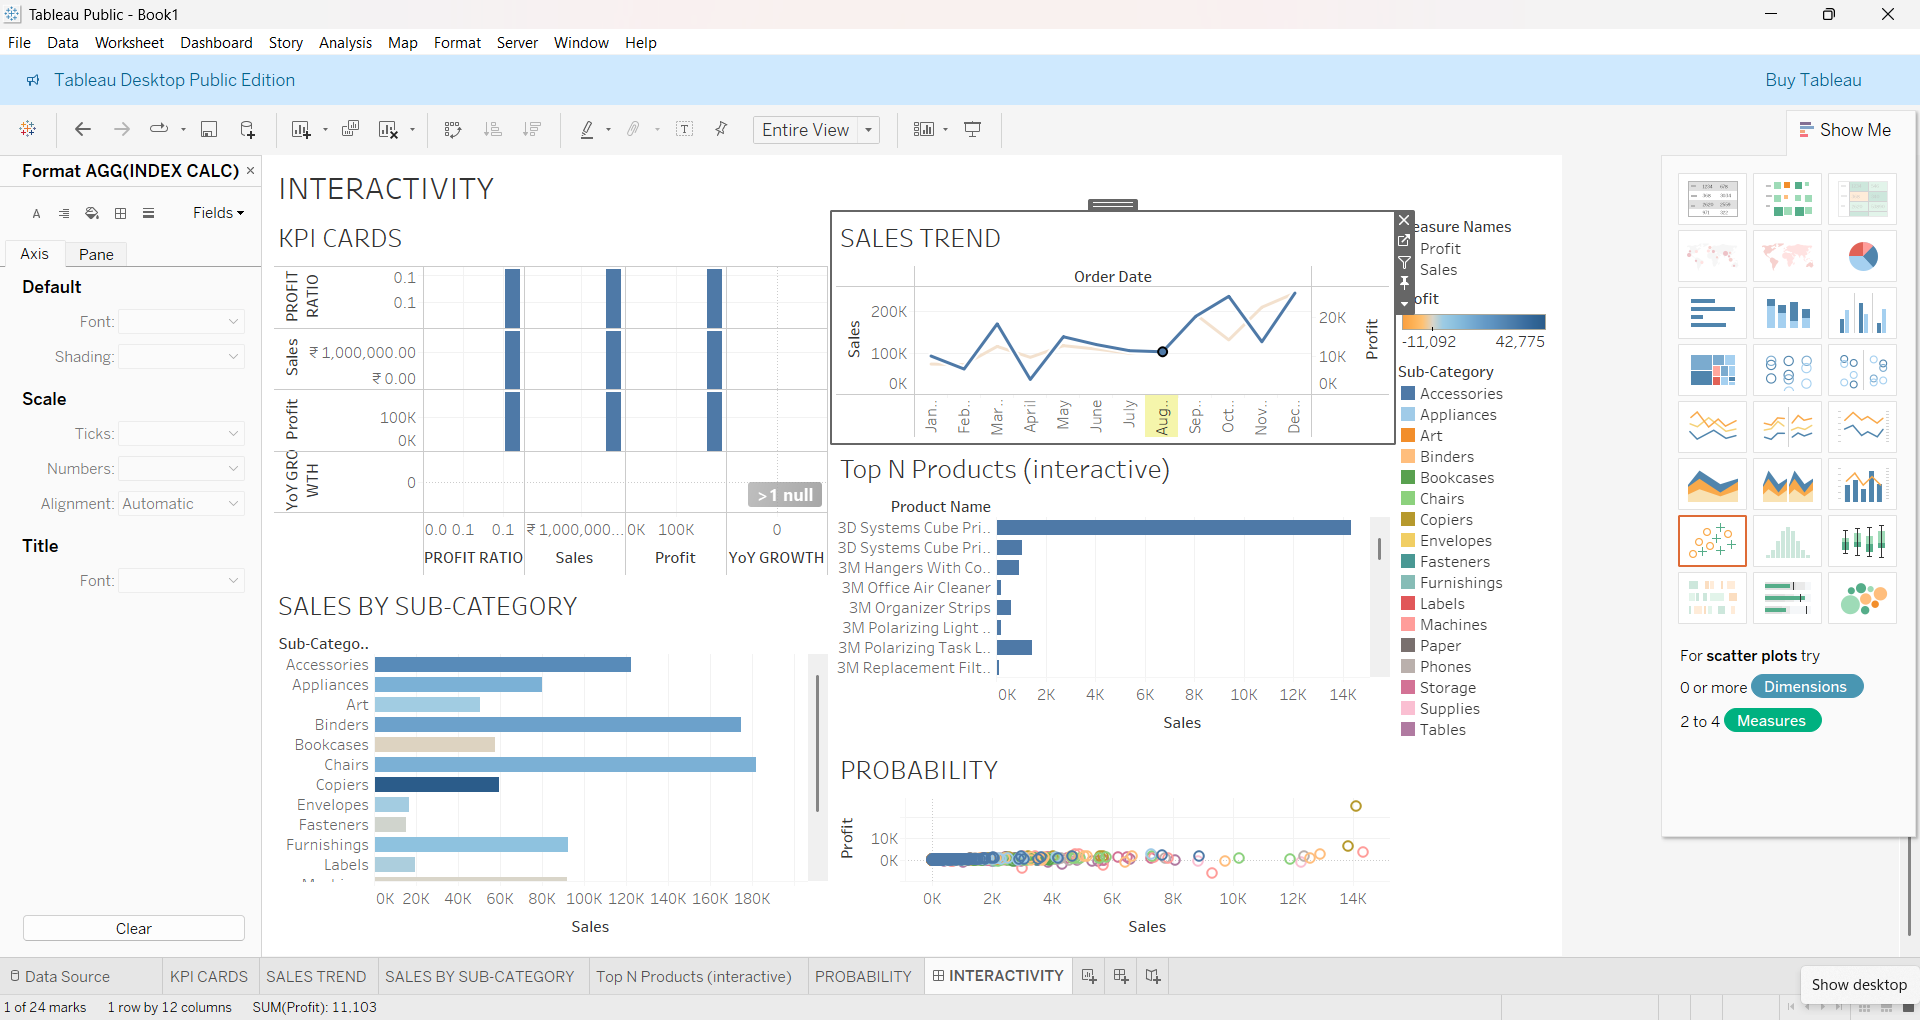

Layout of this report page (visuals, bound fields, positions):
{"tool":"tableau","page":{"name":"INTERACTIVITY","canvas":[1000,1000],"units":"permille","ordinal":0},"visuals":[{"type":"title","box":[6.2,10,987.7,62.4]},{"type":"worksheet","title":"KPI CARDS","mark":"Bar","rows":["Calculation_1414974765203062784","Sales","Profit","Calculation_1414974765203439617"],"cols":["Calculation_1414974765203062784","Sales","Profit","Calculation_1414974765203439617"],"box":[6.2,72.3,432.3,458.8]},{"type":"worksheet","title":"SALES TREND","mark":"Automatic","rows":["Sales","Profit"],"cols":["Order Date"],"box":[438.5,72.3,432.3,288]},{"type":"legend","title":"SALES TREND","param":"[federated.1o70j6t1krwxql11hc9ve0rg00m2].[:Measure Names]","box":[870.8,72.3,123.1,89.8]},{"type":"legend","title":"SALES BY SUB-CATEGORY","param":"[federated.1o70j6t1krwxql11hc9ve0rg00m2].[sum:Profit:qk]","box":[870.8,162.1,123.1,91]},{"type":"legend","title":"PROBABILITY","param":"[federated.1o70j6t1krwxql11hc9ve0rg00m2].[none:Sub-Category:nk]","box":[870.8,253.1,123.1,482.6]},{"type":"worksheet","title":"Top N Products (interactive)","mark":"Automatic","rows":["Product Name"],"cols":["Sales"],"box":[438.5,360.4,432.3,375.3]},{"type":"worksheet","title":"SALES BY SUB-CATEGORY","mark":"Automatic","rows":["Sub-Category"],"cols":["Sales"],"box":[6.2,531.2,432.3,458.9]},{"type":"worksheet","title":"PROBABILITY","mark":"Automatic","rows":["Profit"],"cols":["Sales"],"box":[438.5,735.7,432.3,254.4]}]}

Visuals, with their boxes on the dashboard's canvas, which has no fixed pixel size, in thousandths of its width and height (x1, y1, x2, y2). These are canvas units, not pixel positions in the 1920x1020 screenshot, which may show the page scaled, cropped or inside an application window:
title: (6, 10, 994, 72)
"KPI CARDS" worksheet (Bar marks): (6, 72, 438, 531)
"SALES TREND" worksheet: (438, 72, 871, 360)
"SALES TREND" legend: (871, 72, 994, 162)
"SALES BY SUB-CATEGORY" legend: (871, 162, 994, 253)
"PROBABILITY" legend: (871, 253, 994, 736)
"Top N Products (interactive)" worksheet: (438, 360, 871, 736)
"SALES BY SUB-CATEGORY" worksheet: (6, 531, 438, 990)
"PROBABILITY" worksheet: (438, 736, 871, 990)
